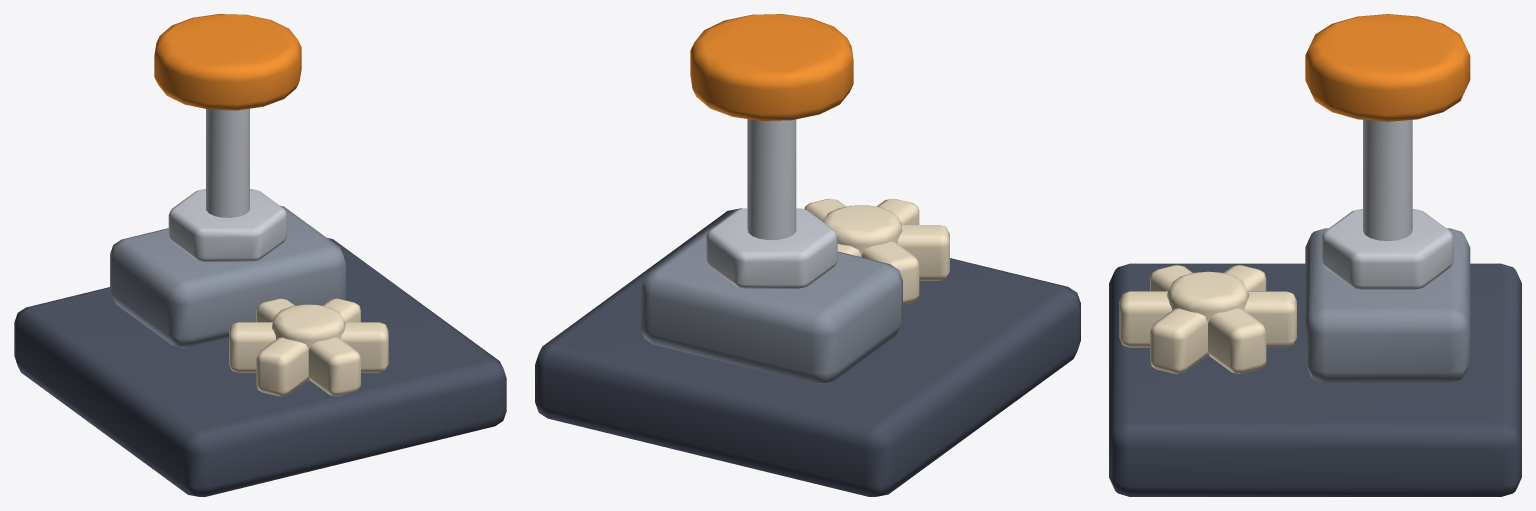
File: Ctrl_Toggle_Lights.glb
The picture shows the model from 3 angles, left to right: view 1: azimuth 30°, elevation 25°; view 2: azimuth 150°, elevation 25°; view 3: azimuth 270°, elevation 25°; orthographic projection. The views are drawn at different scales.
Parts seen in each view (by area): view 1: Ctrl_Toggle_Lights.Base, Ctrl_Toggle_Lights.Housing, Ctrl_Toggle_Lights.Move_Lever, Ctrl_Toggle_Lights.Icon, Ctrl_Toggle_Lights.Nut; view 2: Ctrl_Toggle_Lights.Base, Ctrl_Toggle_Lights.Housing, Ctrl_Toggle_Lights.Move_Lever, Ctrl_Toggle_Lights.Icon, Ctrl_Toggle_Lights.Nut; view 3: Ctrl_Toggle_Lights.Base, Ctrl_Toggle_Lights.Move_Lever, Ctrl_Toggle_Lights.Housing, Ctrl_Toggle_Lights.Icon, Ctrl_Toggle_Lights.Nut.
Boxes of the visible parts, left/top/right/bottom form: Ctrl_Toggle_Lights.Base: left=14, top=238, right=506, bottom=496; Ctrl_Toggle_Lights.Housing: left=110, top=205, right=345, bottom=347; Ctrl_Toggle_Lights.Move_Lever: left=154, top=14, right=301, bottom=217; Ctrl_Toggle_Lights.Icon: left=229, top=298, right=388, bottom=396; Ctrl_Toggle_Lights.Nut: left=168, top=189, right=287, bottom=261; Ctrl_Toggle_Lights.Base: left=535, top=208, right=1080, bottom=496; Ctrl_Toggle_Lights.Housing: left=641, top=226, right=902, bottom=383; Ctrl_Toggle_Lights.Move_Lever: left=690, top=14, right=853, bottom=240; Ctrl_Toggle_Lights.Icon: left=804, top=198, right=949, bottom=304; Ctrl_Toggle_Lights.Nut: left=706, top=208, right=837, bottom=288; Ctrl_Toggle_Lights.Base: left=1109, top=263, right=1521, bottom=496; Ctrl_Toggle_Lights.Move_Lever: left=1305, top=14, right=1470, bottom=240; Ctrl_Toggle_Lights.Housing: left=1305, top=228, right=1470, bottom=382; Ctrl_Toggle_Lights.Icon: left=1119, top=265, right=1296, bottom=373; Ctrl_Toggle_Lights.Nut: left=1321, top=209, right=1453, bottom=289.
Bounding box in the file's own units: 0.2 × 0.2 × 0.2.
Materials: 1 (1 with a texture image).
